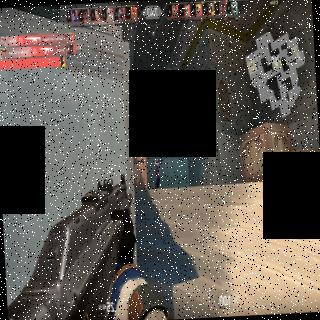ENEMY-BODY: (154, 157, 160, 189)
ENEMY-HEAD: (156, 158, 158, 162)
